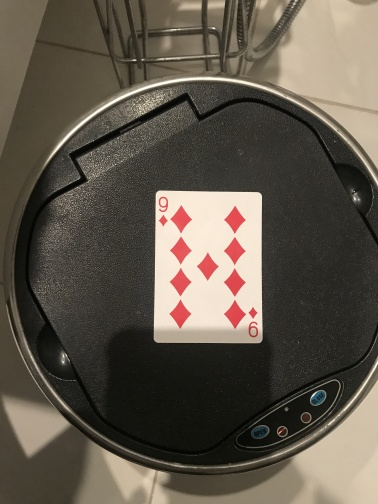nine: (151, 188, 264, 345)
